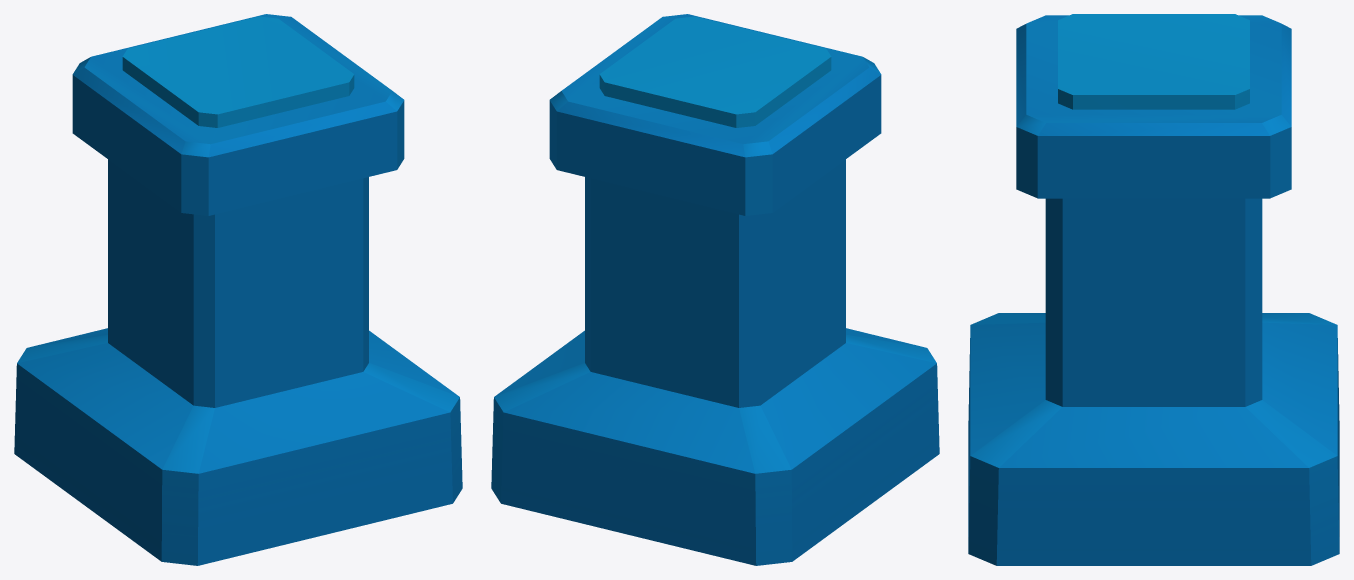
The model's file is Edge Pillar Corner 01.fbx.
3 renders of one model, left to right at view 1: azimuth 30°, elevation 25°; view 2: azimuth 150°, elevation 25°; view 3: azimuth 270°, elevation 25°, orthographic. The views are drawn at different scales.
Parts seen in each view (by area): view 1: Edge Pillar Corner 01.001; view 2: Edge Pillar Corner 01.001; view 3: Edge Pillar Corner 01.001.
Boxes of the visible parts, x1,y1,x2,y2 form: Edge Pillar Corner 01.001: (14,14,462,565); Edge Pillar Corner 01.001: (491,14,939,565); Edge Pillar Corner 01.001: (968,14,1339,565).
Size of the model in its own units: 60.45 by 77.88 by 60.47.
